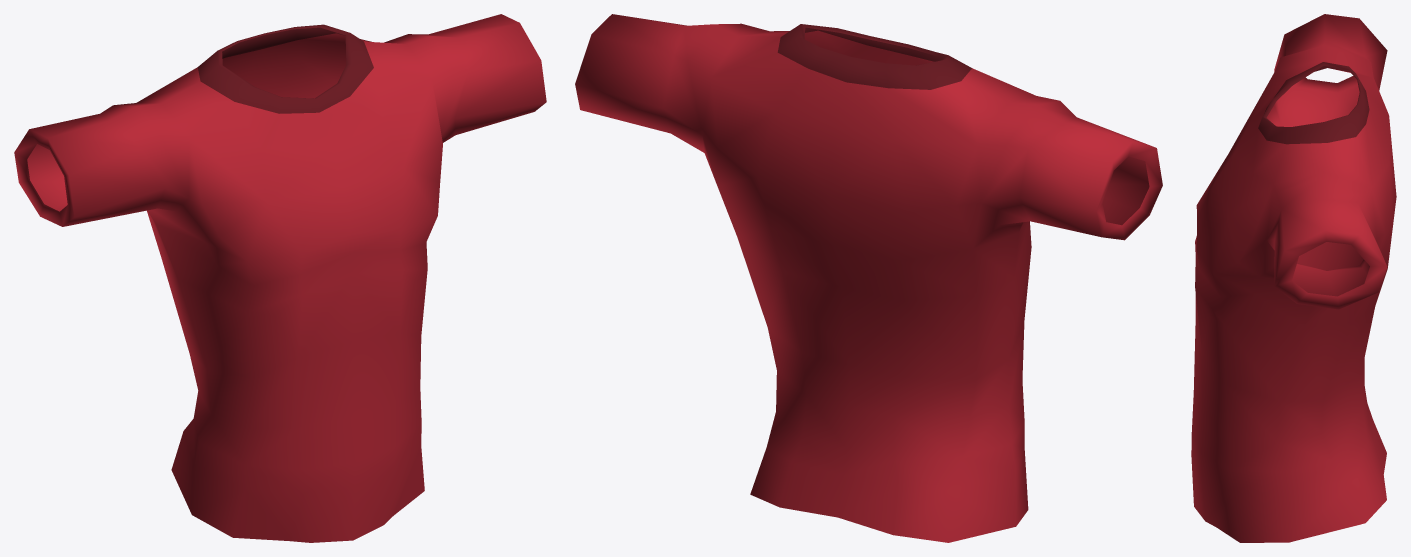
Rendered from Shirt_03.fbx.
3 renders of one model, left to right at view 1: azimuth 30°, elevation 25°; view 2: azimuth 150°, elevation 25°; view 3: azimuth 270°, elevation 25°, orthographic. The views are drawn at different scales.
Parts seen in each view (by area): view 1: Shirt_03; view 2: Shirt_03; view 3: Shirt_03.
Boxes of the visible parts, <box> form: Shirt_03: <box>14,14,546,542</box>; Shirt_03: <box>575,14,1162,542</box>; Shirt_03: <box>1191,14,1396,542</box>.
Bounding box in the file's own units: 69.29 × 62.05 × 27.75.
